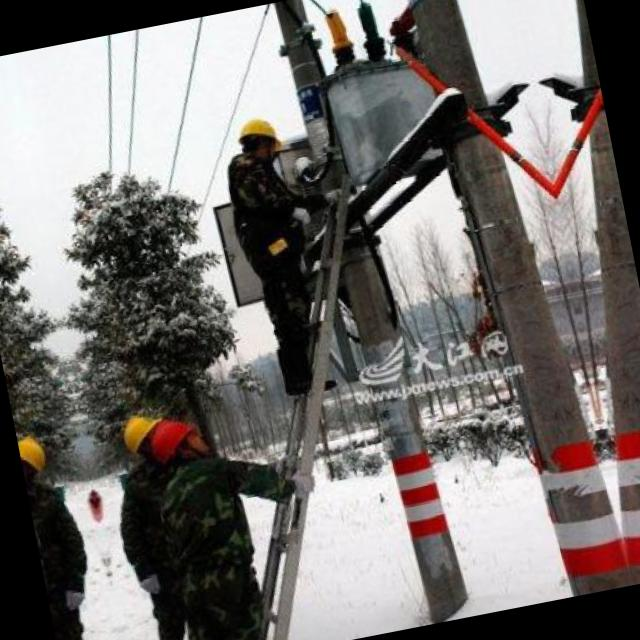helmet: (148, 414, 212, 472), (230, 108, 286, 167), (118, 409, 166, 463), (16, 431, 54, 484)
